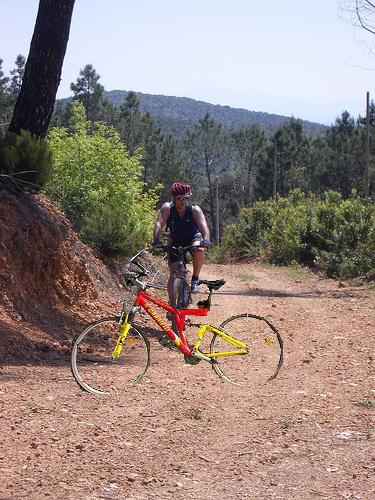tampered: (71, 262, 283, 395)
